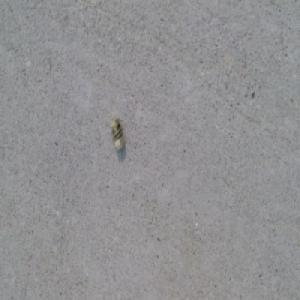BoltNutSet: (110, 119, 125, 153)
